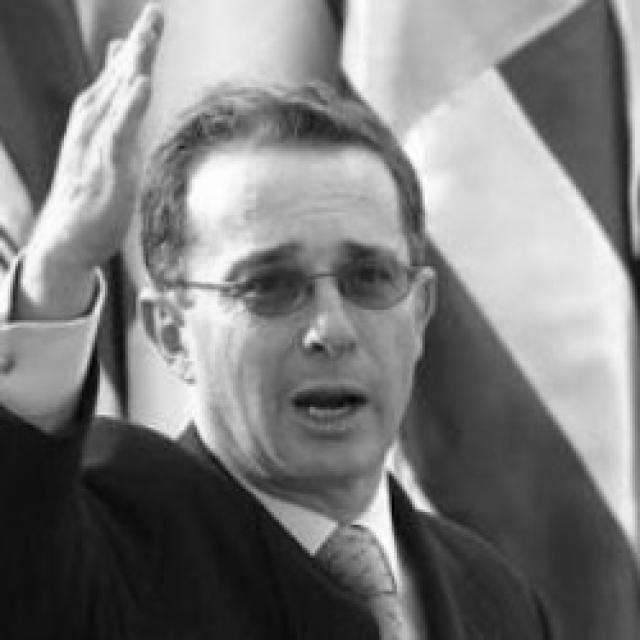real: (188, 148, 416, 486), (217, 250, 409, 313)
